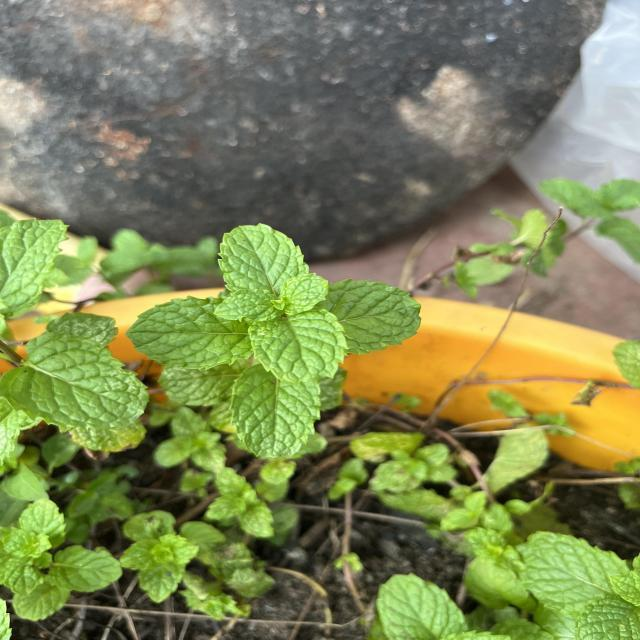Mentha spicata: (0, 330, 151, 433), (124, 292, 260, 373), (228, 364, 324, 459), (320, 277, 423, 357), (246, 308, 350, 386), (216, 221, 309, 295)
